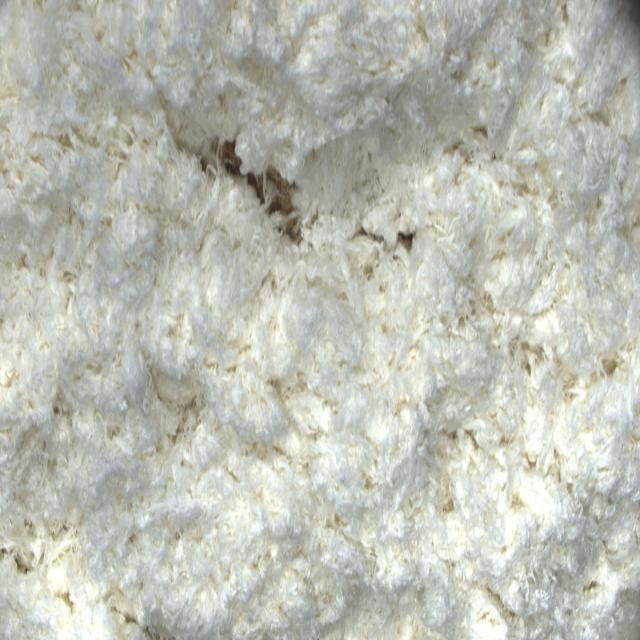dust: (253, 166, 310, 253), (210, 144, 246, 189), (398, 227, 421, 266)
